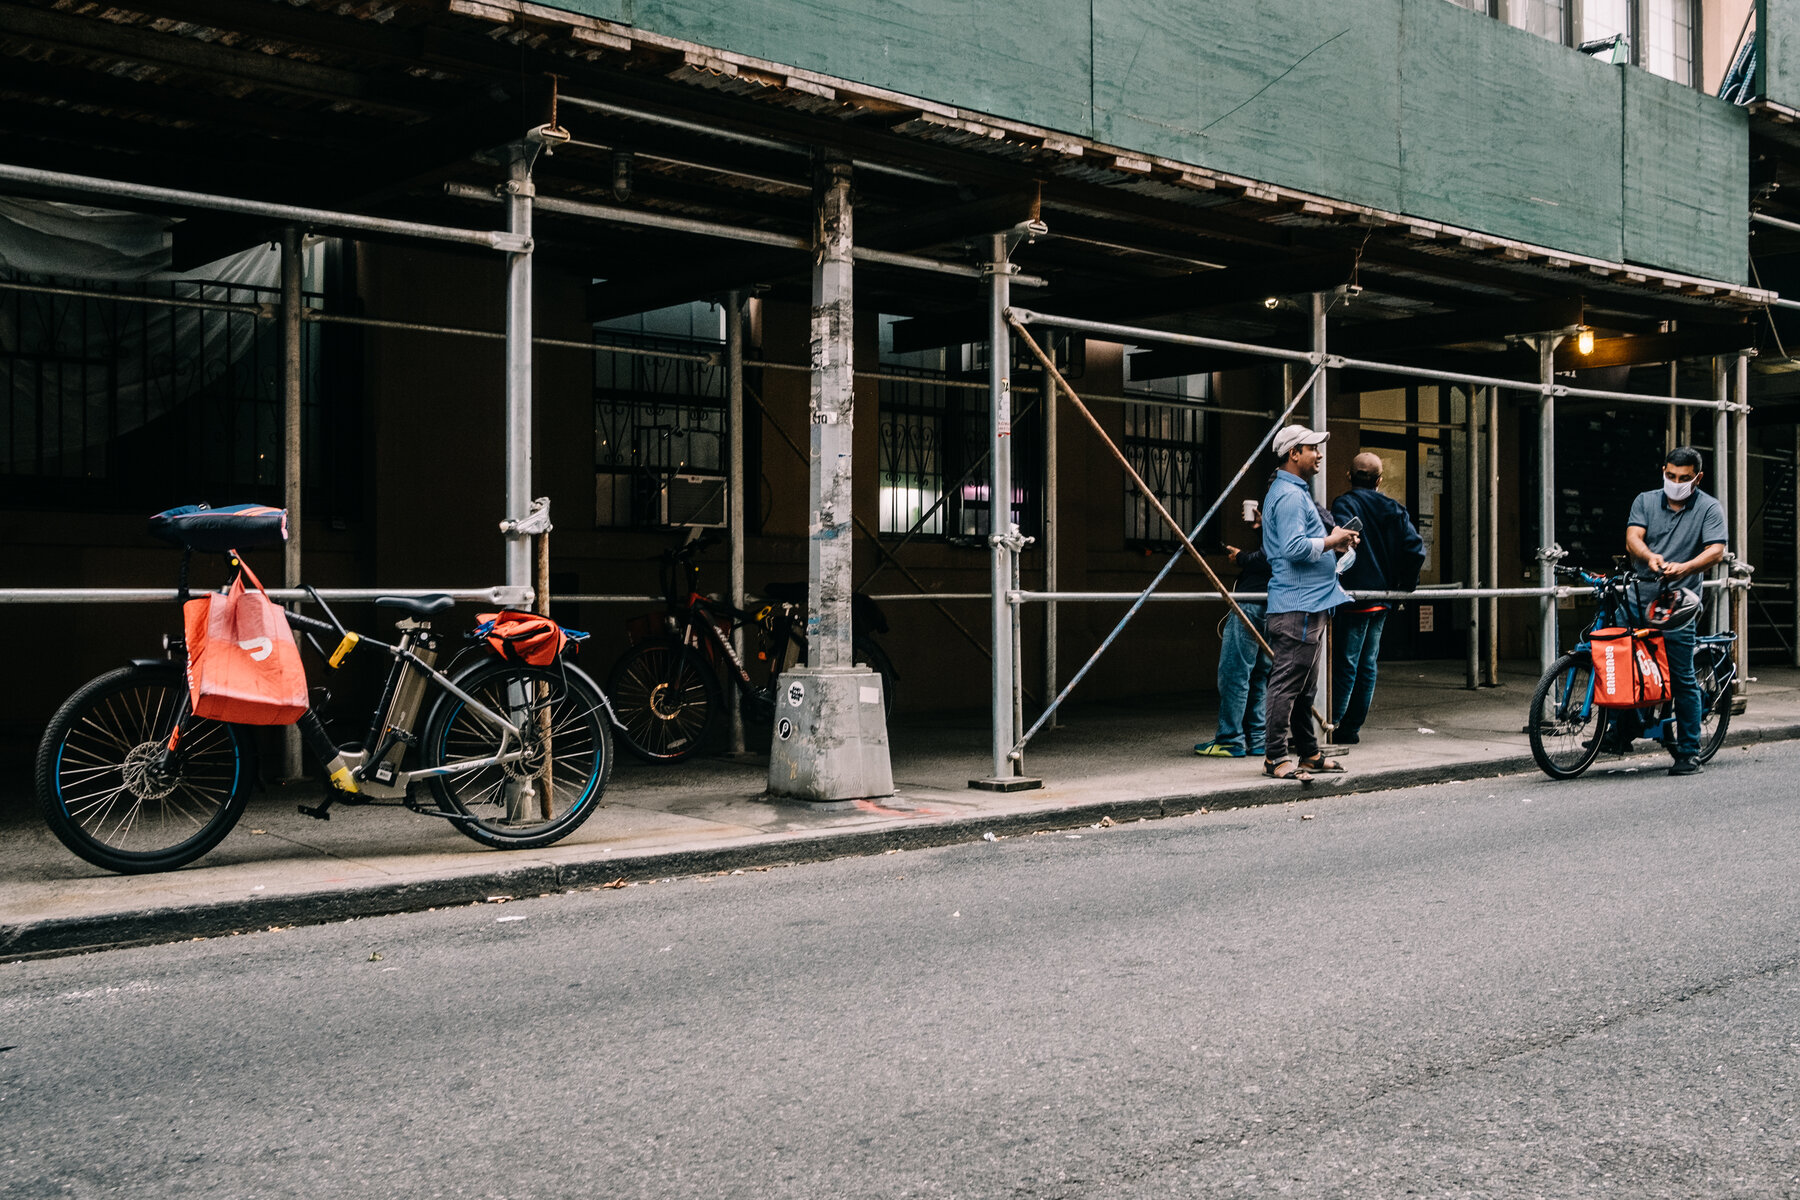bike: (42, 470, 684, 901)
